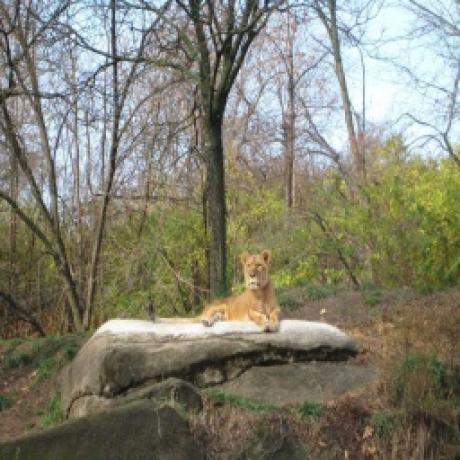Lion: (193, 246, 287, 336)
